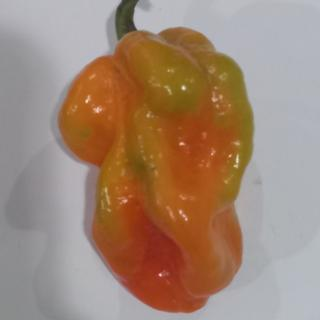Grade-A: (54, 22, 260, 315)
